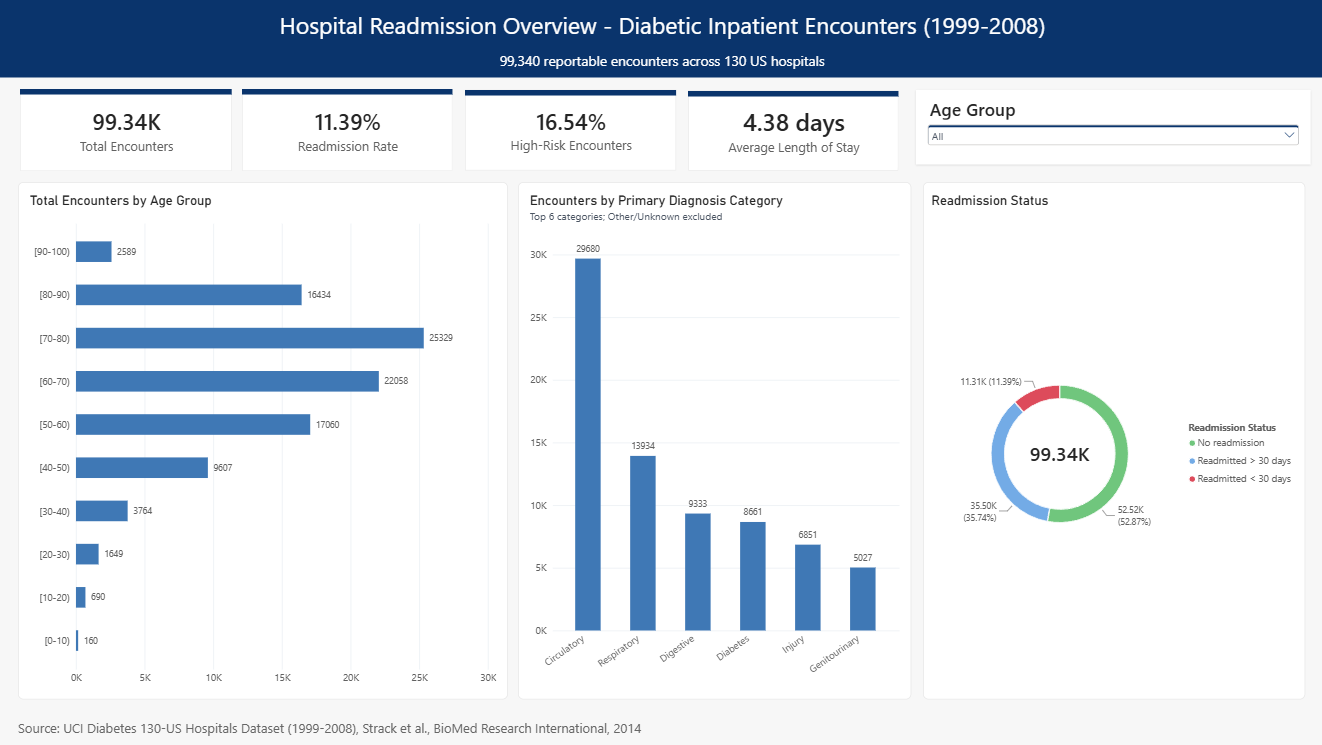

Layout of this report page (visuals, bound fields, positions):
{"tool":"powerbi","page":{"name":"Overview","canvas":[1920,1080],"ordinal":0},"visuals":[{"type":"cardVisual","fields":{"Data":["hospital_readmission vw_encounter_full.Total Encounters"]},"box":[28.8,128.6,307.8,119.8],"z":0,"group":"g4"},{"type":"clusteredBarChart","title":"Total Encounters by Age Group","fields":{"Category":["hospital_readmission vw_encounter_full.age_group"],"Y":["hospital_readmission vw_encounter_full.Total Encounters"]},"box":[25.7,264.3,710,750],"z":0},{"type":"cardVisual","fields":{"Data":["hospital_readmission vw_encounter_full.Readmission Rate %"]},"box":[351.4,128.6,305.1,119.7],"z":1000,"group":"g1"},{"type":"donutChart","title":"Readmission Status","fields":{"Category":["hospital_readmission vw_encounter_full.Readmission Status"],"Y":["hospital_readmission vw_encounter_full.Total Encounters"]},"box":[1337.1,264.3,554.3,750],"z":1000},{"type":"cardVisual","fields":{"Data":["hospital_readmission vw_encounter_risk_tier.% High Risk"]},"box":[674.3,128.6,306.1,118.5],"z":2000,"group":"g2"},{"type":"clusteredColumnChart","title":"Encounters by Primary Diagnosis Category","fields":{"Category":["hospital_readmission vw_encounter_full.primary_diagnosis_category"],"Y":["hospital_readmission vw_encounter_full.Total Encounters"]},"box":[751.4,264.3,570,750],"z":2000},{"type":"shape","box":[0,0,1920,69.2],"z":3000},{"type":"shape","box":[0,61.7,1919.4,50],"z":4000},{"type":"slicer","title":"Age Group","fields":{"Values":["hospital_readmission vw_encounter_full.age_group"]},"box":[1328,130.9,571.6,107.6],"z":5000},{"type":"group","id":"g1","title":"Group 1","box":[351.4,128.6,305.7,120],"z":6000},{"type":"group","id":"g2","title":"Group 2","box":[674.3,128.6,305.7,120],"z":7000},{"type":"cardVisual","fields":{"Data":["hospital_readmission vw_encounter_full.Avg. Time in Hospital (Display)"]},"box":[997.1,130,305.6,117.9],"z":8000,"group":"g3"},{"type":"group","id":"g3","title":"Group 3","box":[997.1,130,305.7,118.6],"z":8000},{"type":"group","id":"g4","title":"Group 4","box":[28.6,128.6,307.1,120],"z":9000},{"type":"textbox","box":[26.2,1041.5,1103.4,38.6],"z":10000},{"type":"shape","box":[28.6,128.8,306.8,8.5],"z":11000,"group":"g4"},{"type":"shape","box":[351.4,128.6,305.1,8.5],"z":19001,"group":"g1"},{"type":"shape","box":[674.3,129.8,305.9,8.4],"z":19003,"group":"g2"},{"type":"shape","box":[997.1,131.2,305.5,8.5],"z":19005,"group":"g3"}]}

Visuals, with their boxes in screenshot pixels (x1, y1, x2, y2), scaled from the page's 1920x1080 canvas onto the 1322x745 screenshot:
cardVisual - hospital_readmission vw_encounter_full.Total Encounters: 20,89,232,171
"Total Encounters by Age Group" clusteredBarChart: 18,182,507,700
cardVisual - hospital_readmission vw_encounter_full.Readmission Rate %: 242,89,452,171
"Readmission Status" donutChart: 921,182,1302,700
cardVisual - hospital_readmission vw_encounter_risk_tier.% High Risk: 464,89,675,170
"Encounters by Primary Diagnosis Category" clusteredColumnChart: 517,182,910,700
shape: 0,0,1321,48
shape: 0,43,1321,77
"Age Group" slicer: 914,90,1308,165
"Group 1" group: 242,89,452,171
"Group 2" group: 464,89,675,171
cardVisual - hospital_readmission vw_encounter_full.Avg. Time in Hospital (Display): 687,90,897,171
"Group 3" group: 687,90,897,171
"Group 4" group: 20,89,231,171
textbox: 18,718,778,744
shape: 20,89,231,95
shape: 242,89,452,95
shape: 464,90,675,95
shape: 687,91,897,96
